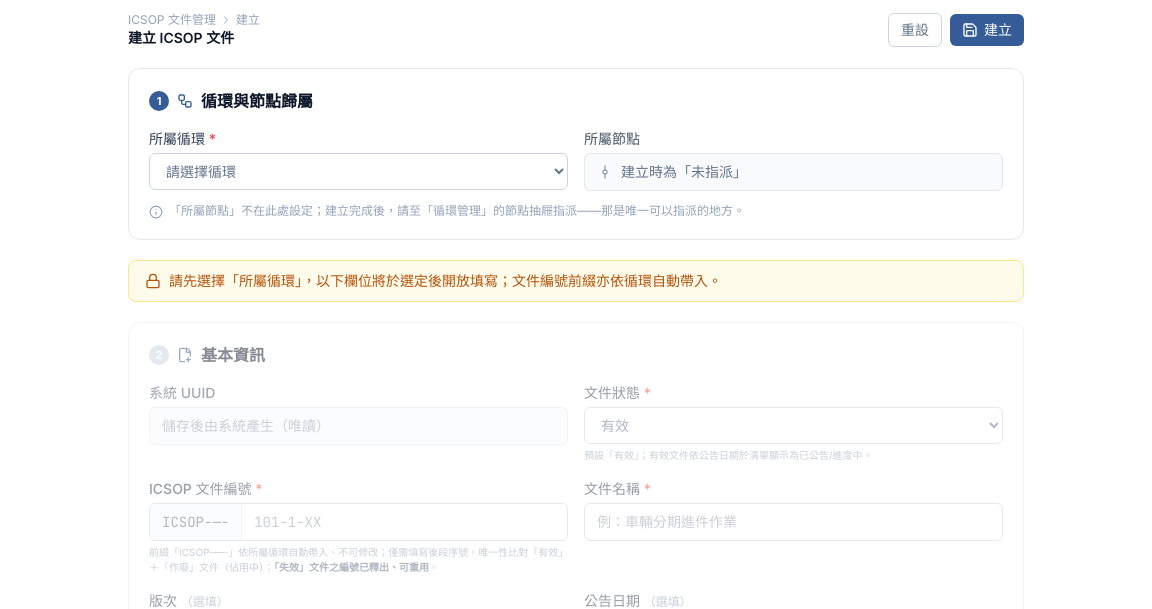
Test: DocumentCreatePage — F010 AC-S4 第二段（子分類）之呈現與選項值 › 由有子分類之名稱改選為無子分類之名稱 → 第二段收起
Select "銷售及收款循環" in the dropdown named "所屬循環－循環名稱". click: {"x": 358, "y": 172}
box: [149,153,568,190]
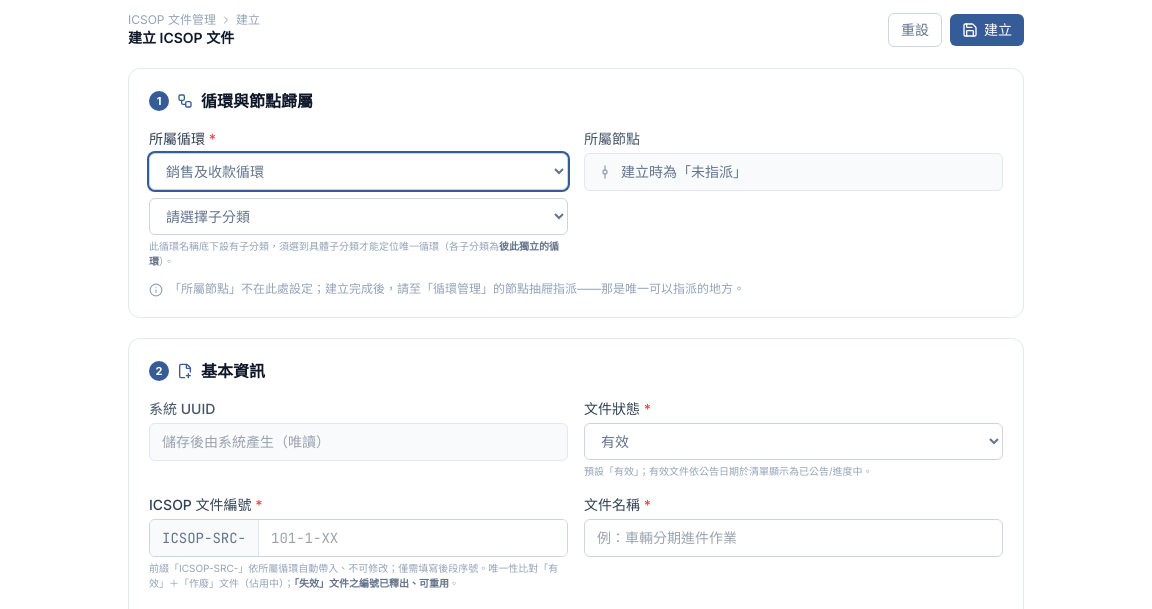
Now the dropdown named "所屬循環－子分類" is shown, box [149,198,568,235]
Select "採購及付款循環" in the dropdown named "所屬循環－循環名稱". click: {"x": 358, "y": 172}
box: [149,153,568,190]
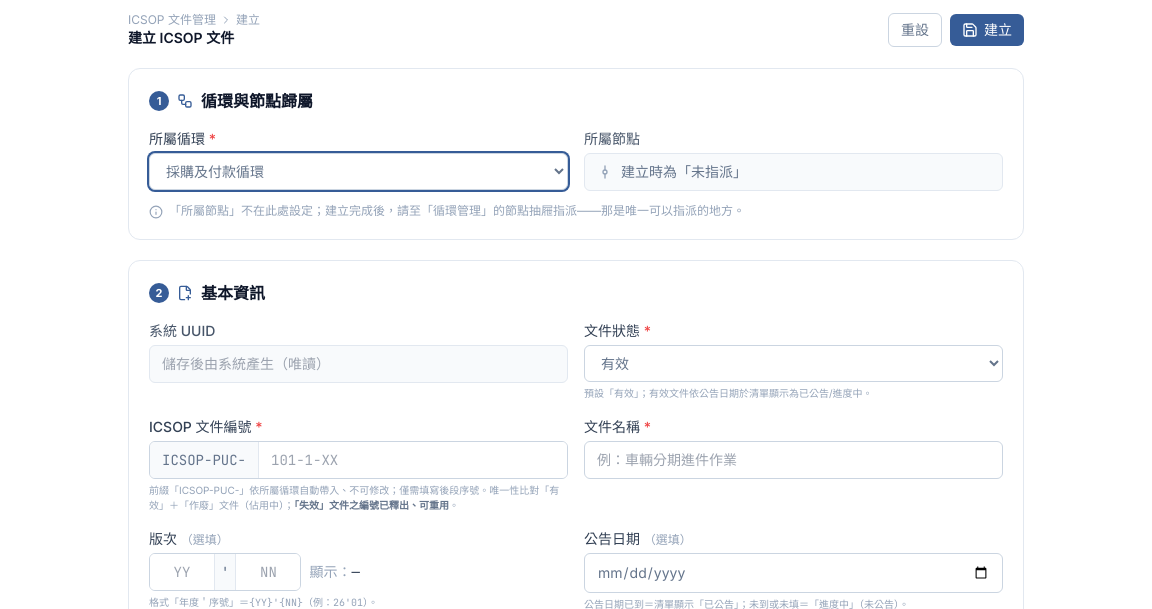
Now the dropdown labelled "所屬循環－子分類" is gone
